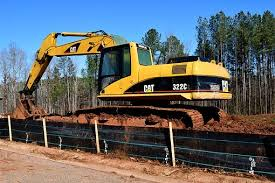excavator: (15, 27, 234, 130)
